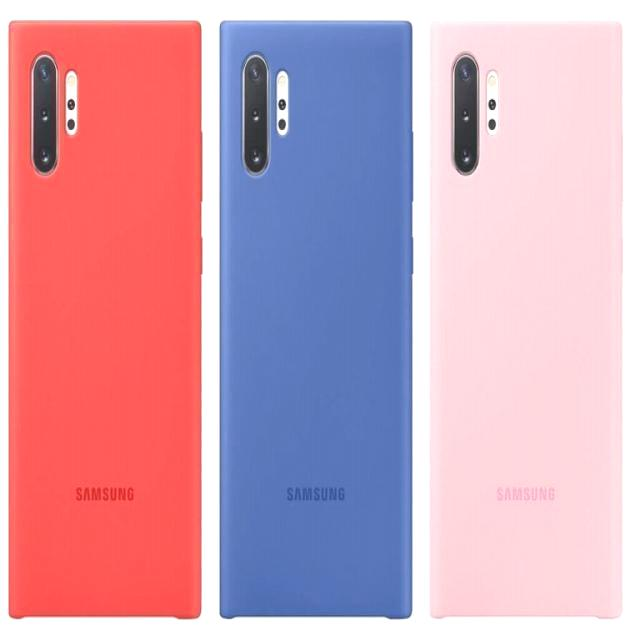lens: (444, 46, 490, 184), (24, 51, 60, 175), (238, 54, 271, 176)
phone: (8, 15, 208, 623), (217, 14, 414, 626), (430, 15, 626, 618)
